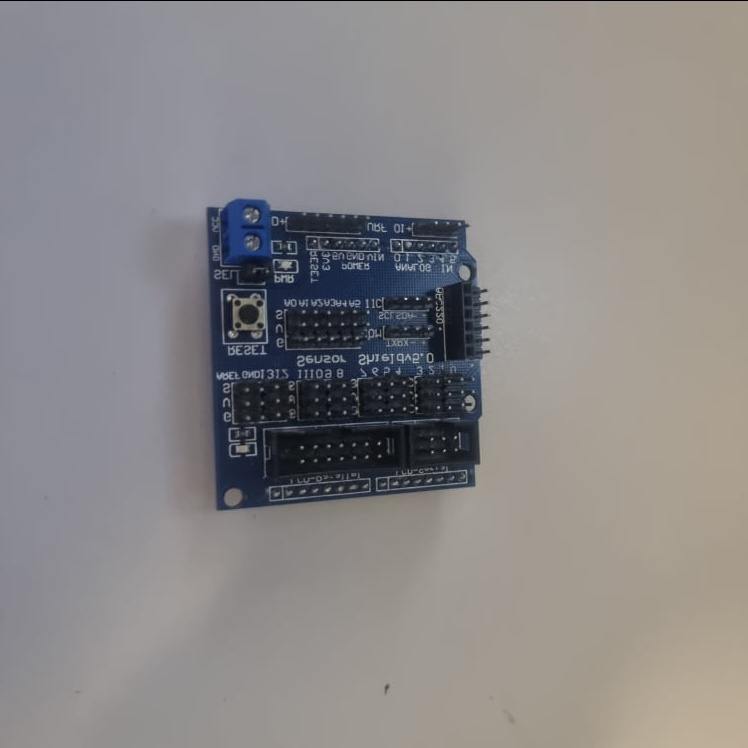5V EXPANSION: (203, 196, 488, 509)
